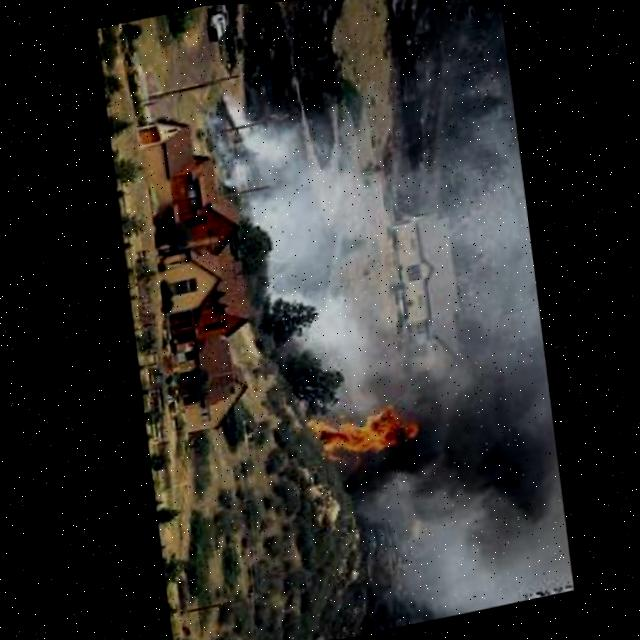fire: (313, 398, 432, 470)
